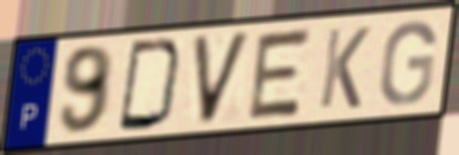9: (55, 42, 119, 138)
D: (115, 37, 187, 134)
E: (244, 25, 316, 123)
G: (376, 17, 439, 108)
K: (316, 24, 373, 111)
V: (188, 28, 254, 129)
